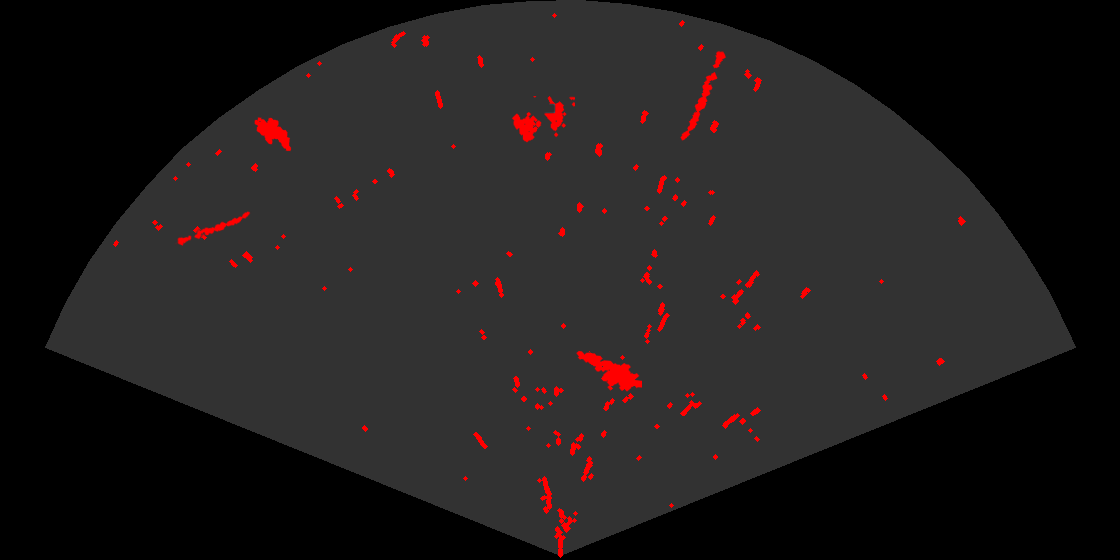AUV: (253, 116, 293, 153)
cage: (510, 96, 575, 144)
chain: (679, 49, 727, 142), (174, 210, 252, 247)
frogman: (575, 349, 642, 393)
